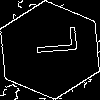L: (25, 25, 77, 57)
